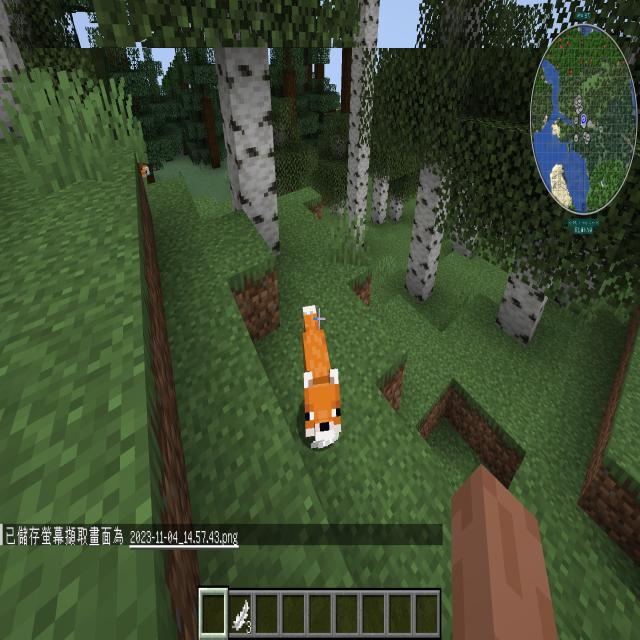Fox: (290, 289, 350, 466), (128, 156, 160, 182)
